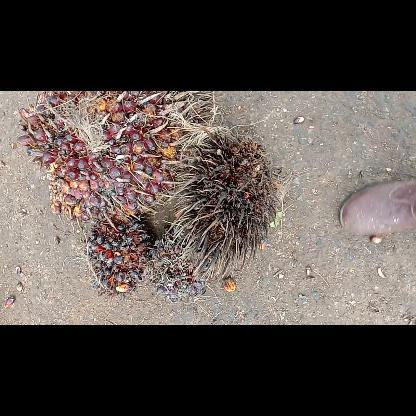Janjang kosong: (168, 126, 286, 282)
TBS abnormal: (81, 214, 155, 298), (142, 219, 209, 305)
TBS masak: (16, 91, 216, 221)
